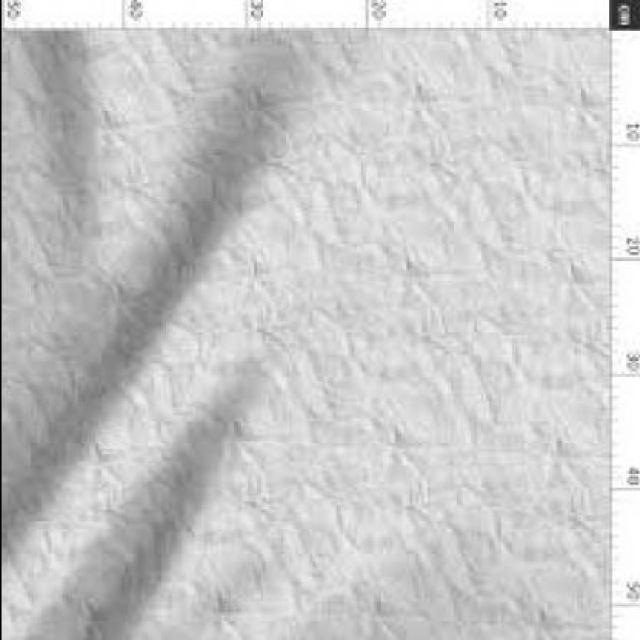PAPER: (3, 25, 617, 637)
